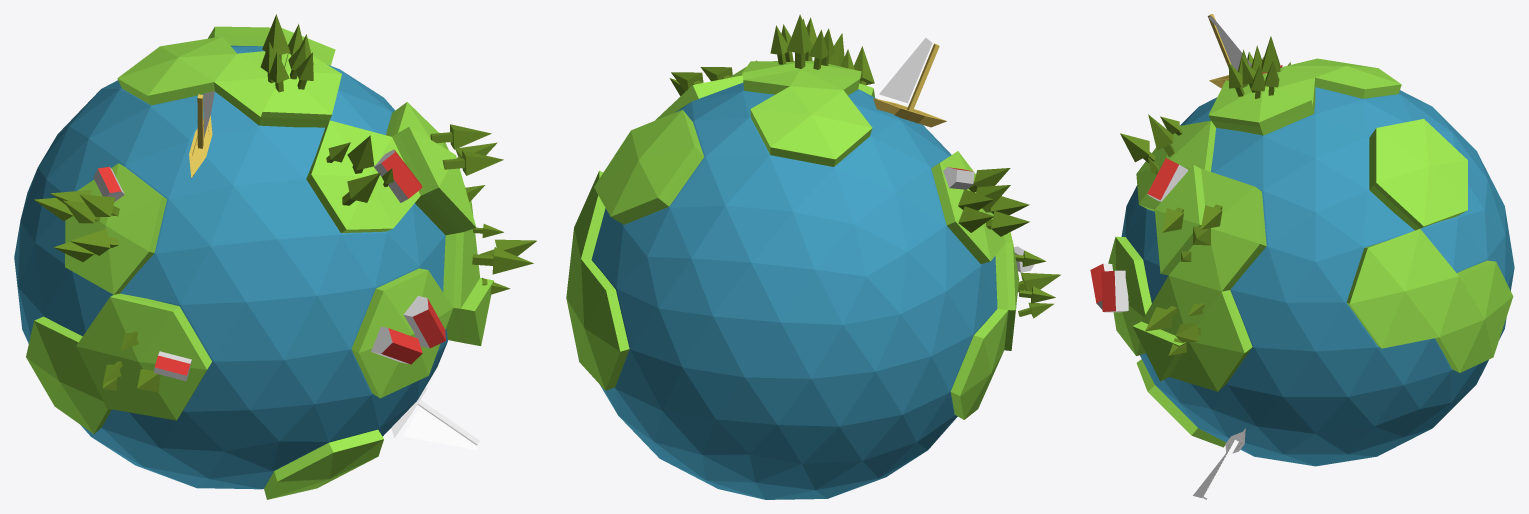
Rendered from planet-BzU0qKaU.glb.
The picture shows the model from 3 angles, left to right: view 1: azimuth 30°, elevation 25°; view 2: azimuth 150°, elevation 25°; view 3: azimuth 270°, elevation 25°; orthographic projection. The views are drawn at different scales.
Parts seen in each view (by area): view 1: Icosphere001_1, Icosphere_0, Icosphere006_7, Icosphere003_3, Icosphere007_8, Icosphere008_10, Icosphere005_6, Icosphere004_4, Icosphere002_2; view 2: Icosphere001_1, Icosphere_0, Icosphere006_7, Icosphere007_8, Icosphere004_4, Icosphere005_6, Icosphere003_3, Icosphere002_2; view 3: Icosphere001_1, Icosphere_0, Icosphere006_7, Icosphere003_3, Icosphere005_6, Icosphere008_10, Icosphere004_4.
Part boxes in pixels (left/top/right/bottom): Icosphere001_1: left=14, top=45, right=447, bottom=489; Icosphere_0: left=26, top=26, right=493, bottom=499; Icosphere006_7: left=102, top=124, right=536, bottom=392; Icosphere003_3: left=93, top=149, right=445, bottom=381; Icosphere007_8: left=34, top=190, right=119, bottom=261; Icosphere008_10: left=391, top=364, right=479, bottom=450; Icosphere005_6: left=260, top=24, right=313, bottom=92; Icosphere004_4: left=189, top=91, right=214, bottom=177; Icosphere002_2: left=262, top=14, right=290, bottom=60; Icosphere001_1: left=591, top=82, right=997, bottom=499; Icosphere_0: left=566, top=60, right=1019, bottom=419; Icosphere006_7: left=669, top=33, right=1060, bottom=318; Icosphere007_8: left=958, top=168, right=1029, bottom=236; Icosphere004_4: left=873, top=37, right=946, bottom=127; Icosphere005_6: left=770, top=17, right=835, bottom=69; Icosphere003_3: left=943, top=167, right=1034, bottom=272; Icosphere002_2: left=786, top=14, right=812, bottom=68; Icosphere001_1: left=1121, top=87, right=1514, bottom=466; Icosphere_0: left=1108, top=58, right=1513, bottom=447; Icosphere006_7: left=1120, top=114, right=1222, bottom=355; Icosphere003_3: left=1090, top=65, right=1283, bottom=312; Icosphere005_6: left=1228, top=45, right=1279, bottom=98; Icosphere008_10: left=1193, top=428, right=1245, bottom=499; Icosphere004_4: left=1207, top=14, right=1251, bottom=88.
Bounding box in the file's own units: 2.4 × 2.46 × 2.26.
